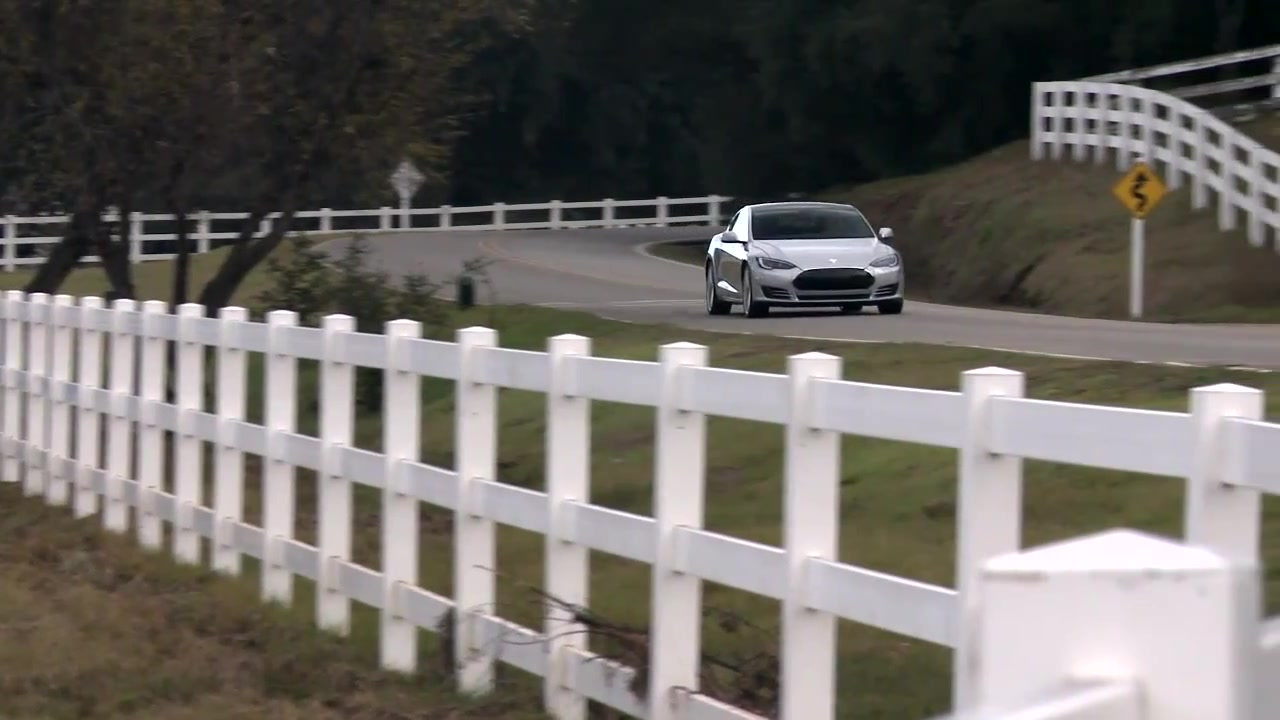car: (702, 198, 915, 317)
